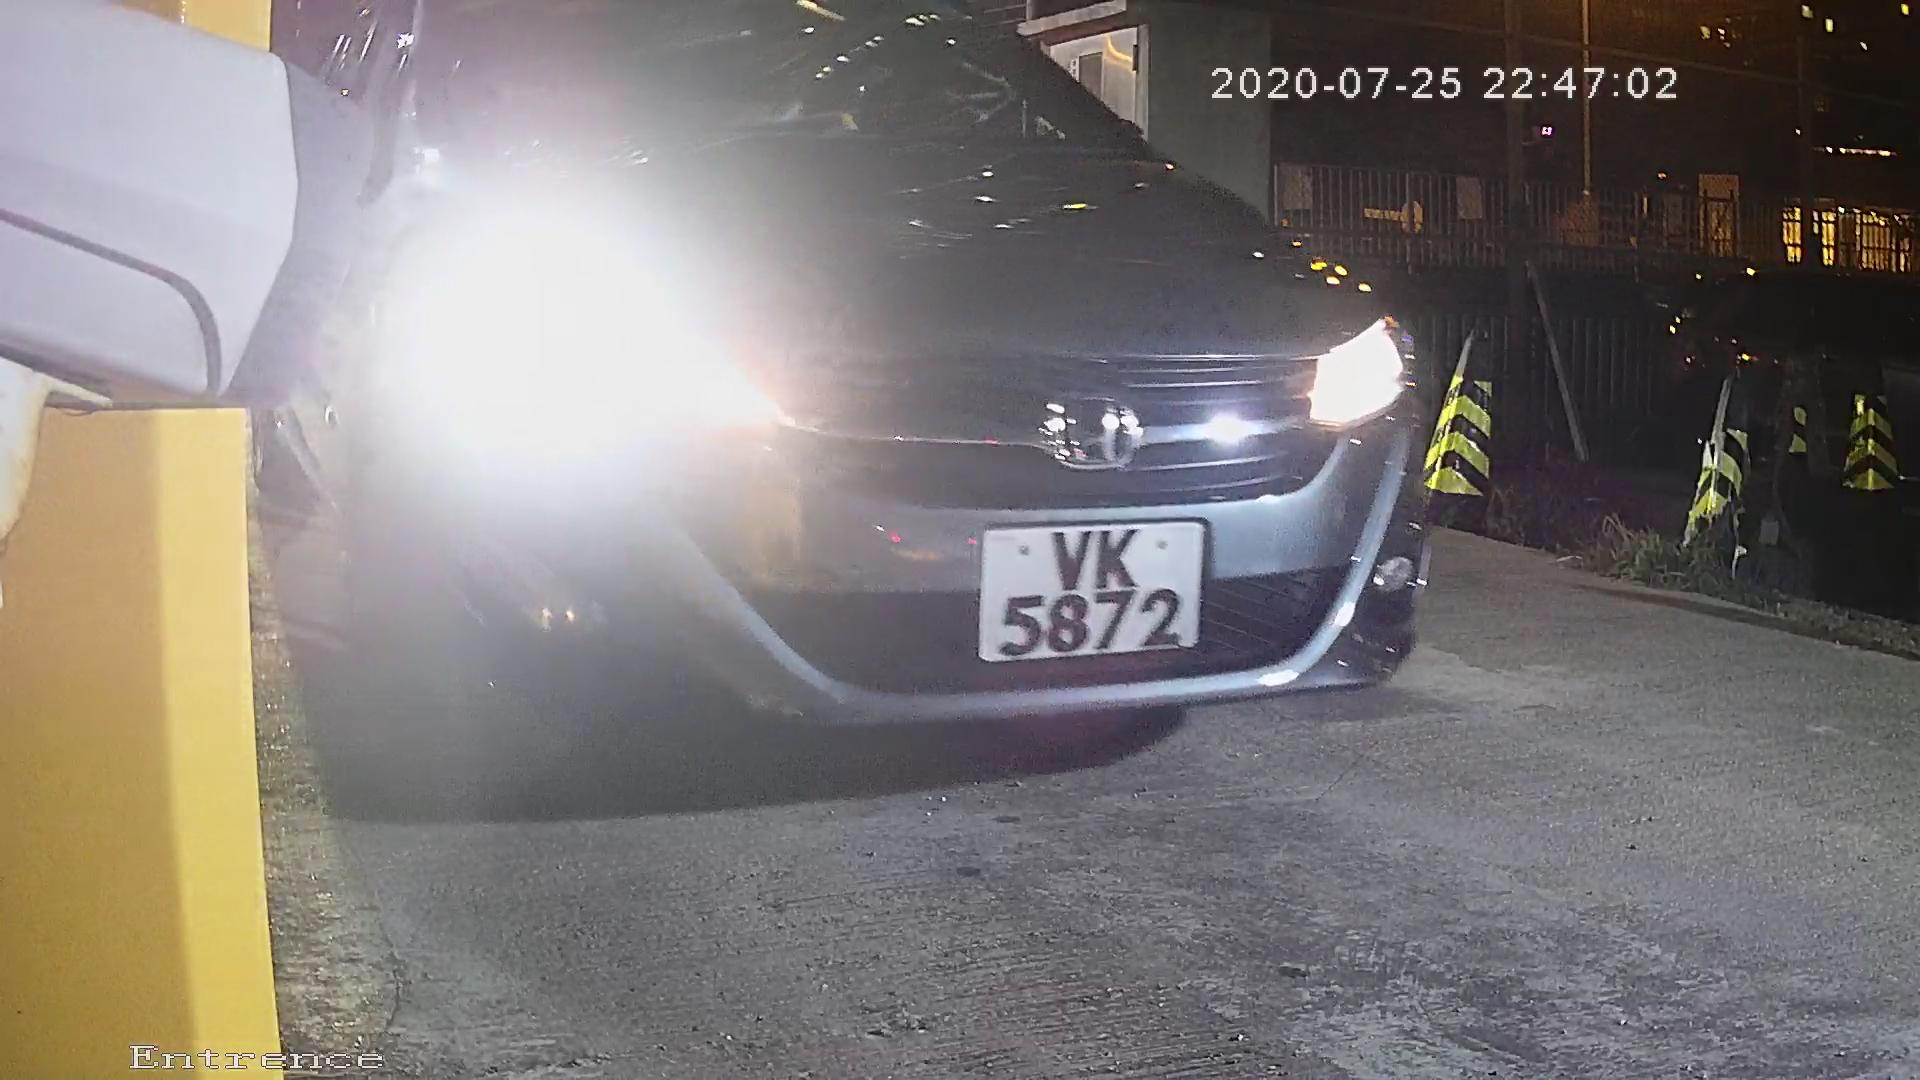License Plate: (943, 507, 1226, 676)
